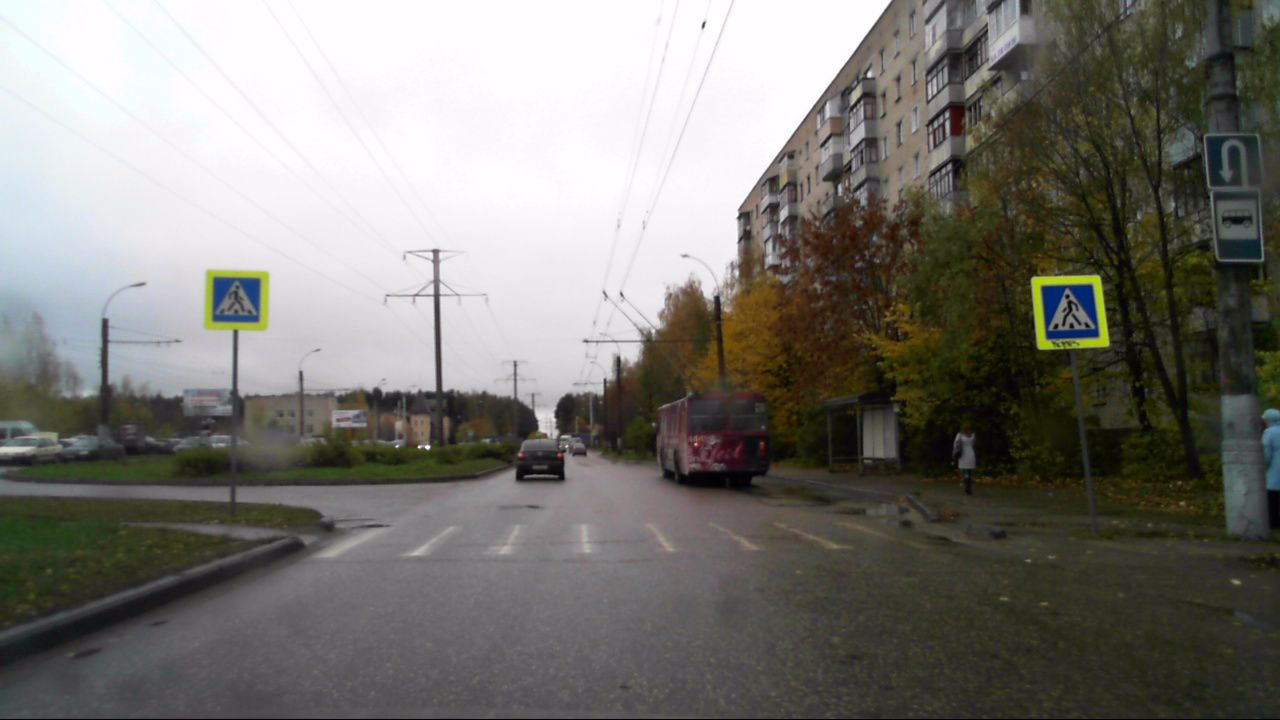Pedestrian Crossing: (1041, 285, 1099, 339), (213, 277, 259, 321)
U-turn: (1205, 135, 1261, 189)
